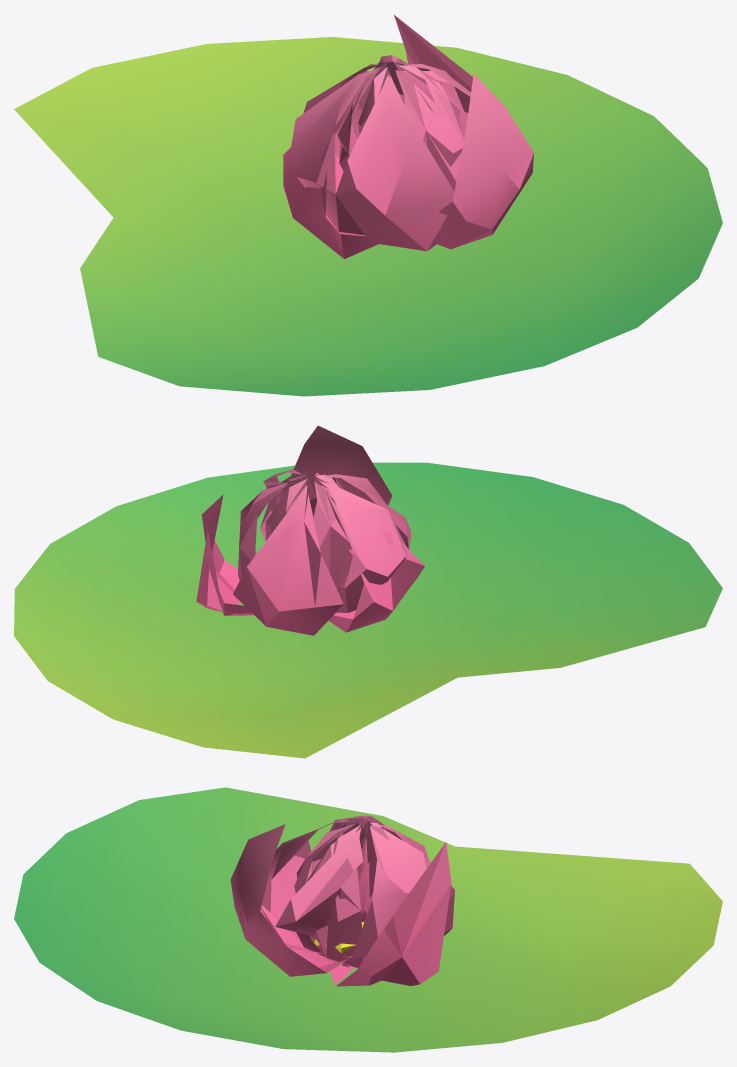
Rendered from Lotus_unbloomed.glb.
3 renders of one model, top to bottom at view 1: azimuth 30°, elevation 25°; view 2: azimuth 150°, elevation 25°; view 3: azimuth 270°, elevation 25°, orthographic. The views are drawn at different scales.
Parts seen in each view (by area): view 1: Lotus_unbloomed; view 2: Lotus_unbloomed; view 3: Lotus_unbloomed.
Boxes of the visible parts, box(x1,y1,x2,y2) form: Lotus_unbloomed: box(14, 15, 722, 396); Lotus_unbloomed: box(14, 425, 722, 758); Lotus_unbloomed: box(14, 787, 722, 1052).
Bounding box in the file's own units: 3.58 × 1.01 × 3.94.
1 material, 1 textured.
